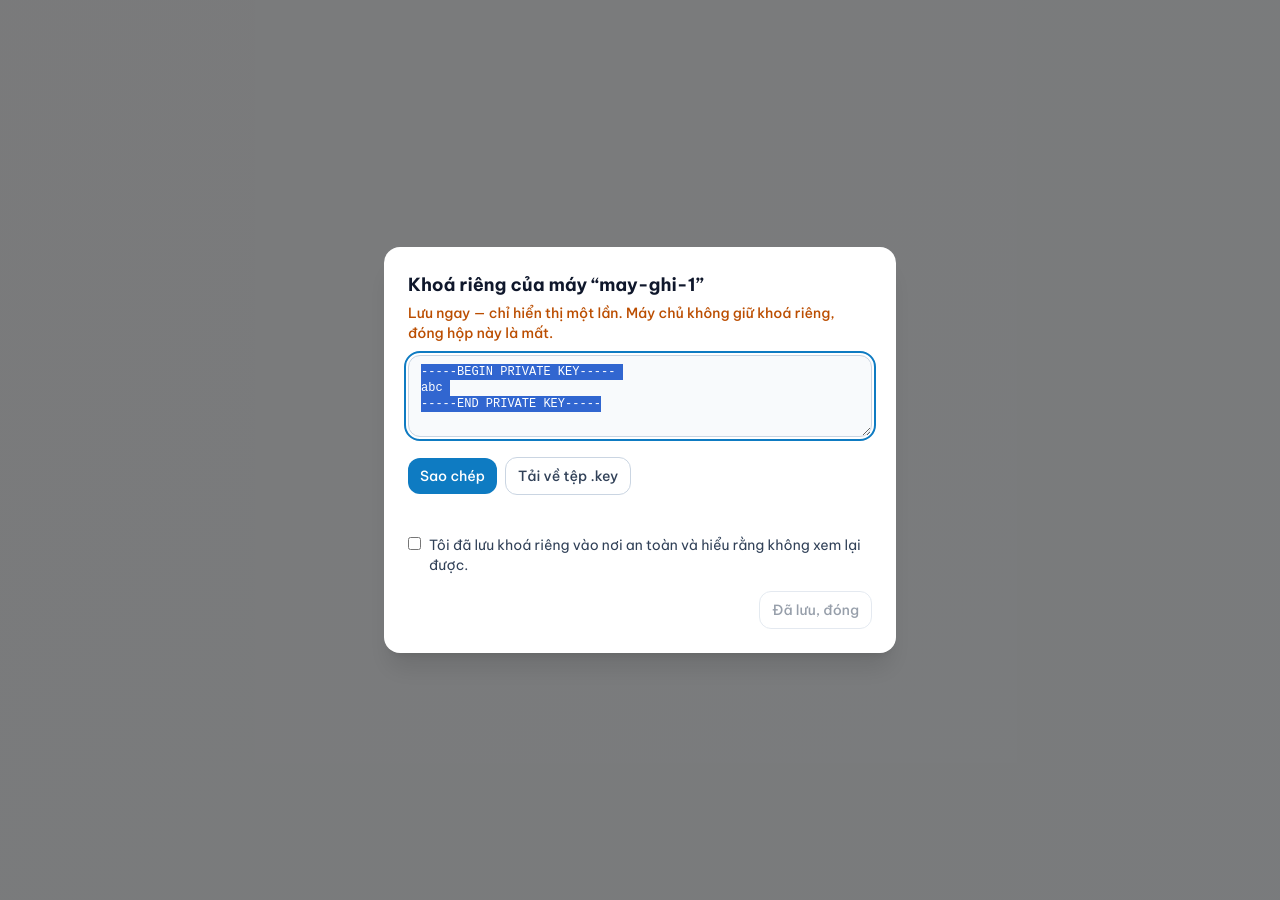
it: PrivateKeyModal › clipboard bị TỪ CHỐI thì nói thẳng, KHÔNG báo đã sao chép
Click the button "Sao chép".
click(452, 476)  # box top-left (408, 458), bottom-right (497, 494)
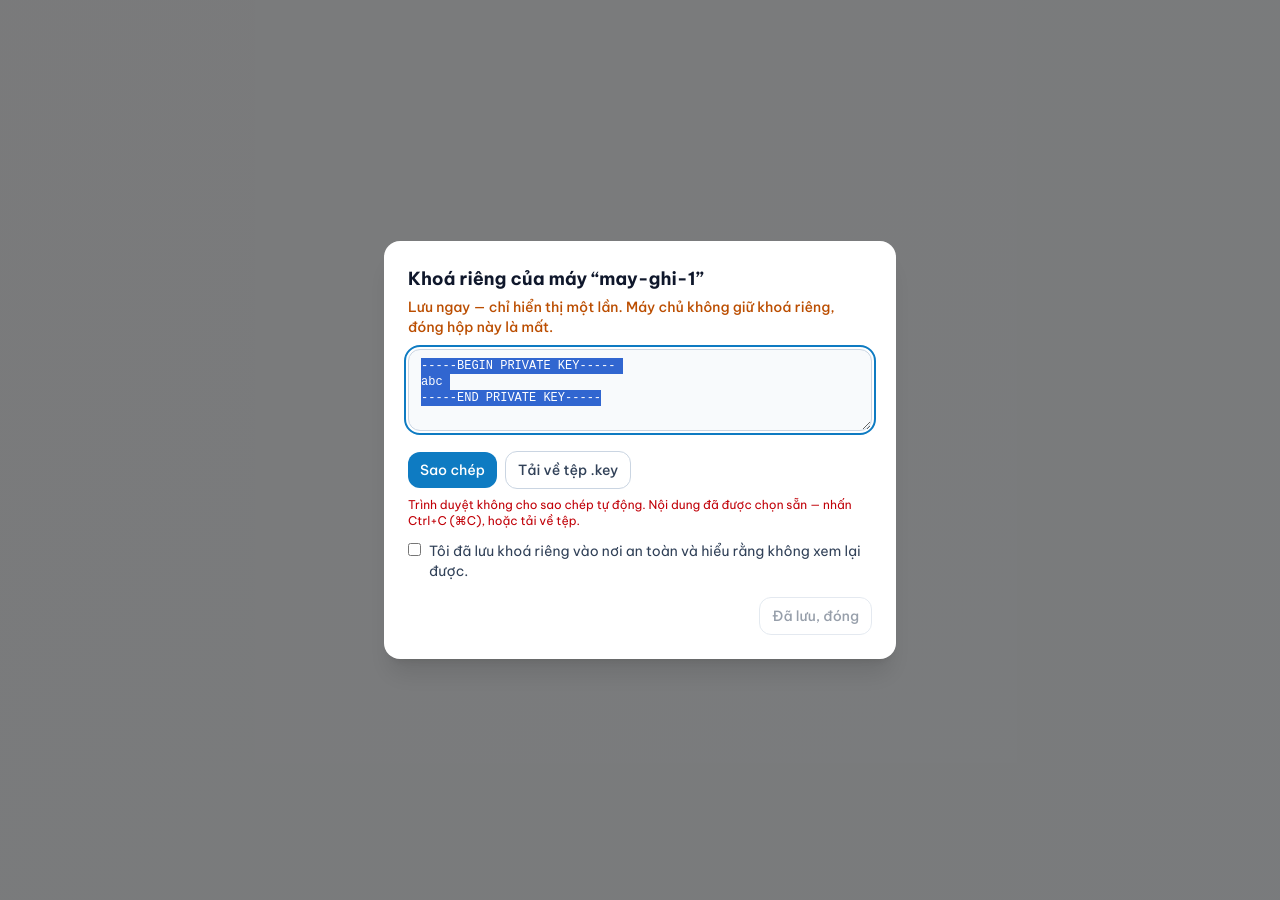
expect the button "Đã lưu, đóng" is disabled: met, box top-left (759, 597), bottom-right (872, 635)
expect the text "không cho sao chép tự động" is shown: met, box top-left (408, 497), bottom-right (852, 528)
